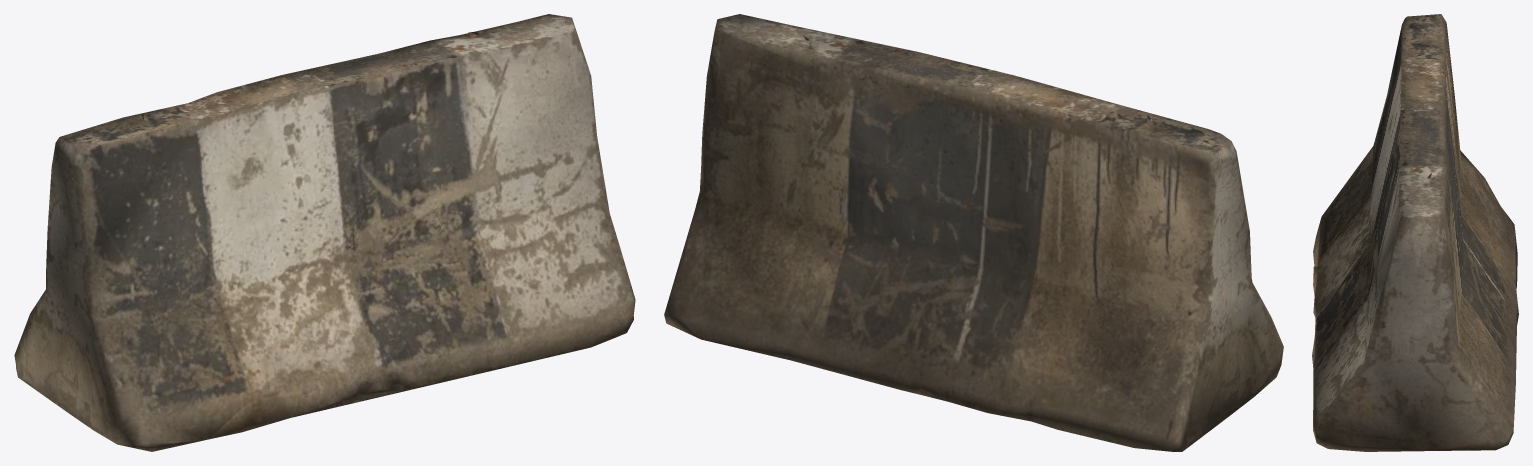
Rendered from concrete_road_barrier.glb.
3 renders of one model, left to right at view 1: azimuth 30°, elevation 25°; view 2: azimuth 150°, elevation 25°; view 3: azimuth 270°, elevation 25°, orthographic. The views are drawn at different scales.
Visible parts, largest first — view 1: concrete_road_barrier; view 2: concrete_road_barrier; view 3: concrete_road_barrier.
Boxes of the visible parts, <box> form: concrete_road_barrier: <box>14,14,635,451</box>; concrete_road_barrier: <box>664,14,1283,451</box>; concrete_road_barrier: <box>1312,14,1518,451</box>.
Size of the model in its own units: 1.54 by 0.8226 by 0.6336.
Materials: 1 (1 with a texture image).
